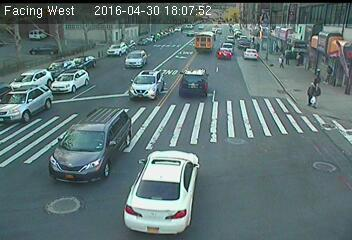neg: (148, 168, 175, 204), (90, 117, 108, 142), (321, 24, 338, 48), (31, 73, 47, 95), (302, 147, 318, 168), (46, 47, 60, 66), (199, 32, 213, 50), (276, 17, 289, 34), (149, 26, 161, 41), (221, 45, 232, 60), (128, 18, 139, 33), (94, 46, 105, 60), (57, 10, 67, 24), (165, 22, 174, 34)
pos: (303, 80, 323, 107), (312, 72, 326, 90), (283, 50, 295, 65), (277, 53, 288, 68), (294, 52, 304, 66)
